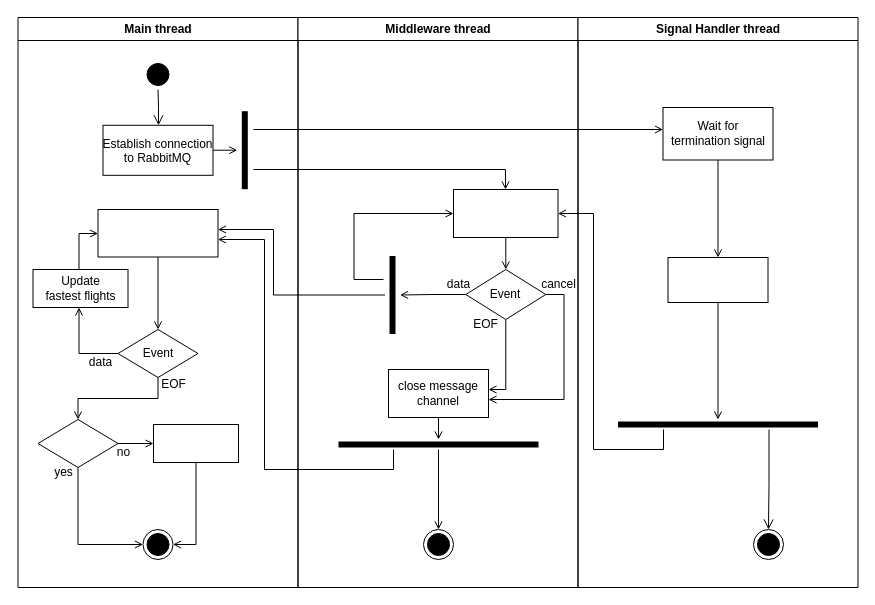
Some shapes in this 875 by 605 pixel diagram are drawn without their labels. Each missing label, with the centre of its shape:
"cancel context" belongs at (x=717, y=279).
"Context cancelled" belongs at (x=77, y=443).
"Send results" belongs at (x=195, y=443).
"Wait for message or context cancellation" belongs at (x=505, y=213).
"Wait for message or EOF" belongs at (x=157, y=232).
